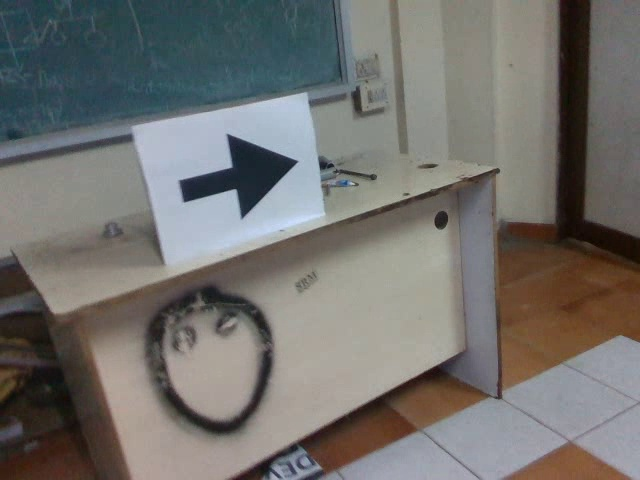Right: (166, 129, 300, 222)
